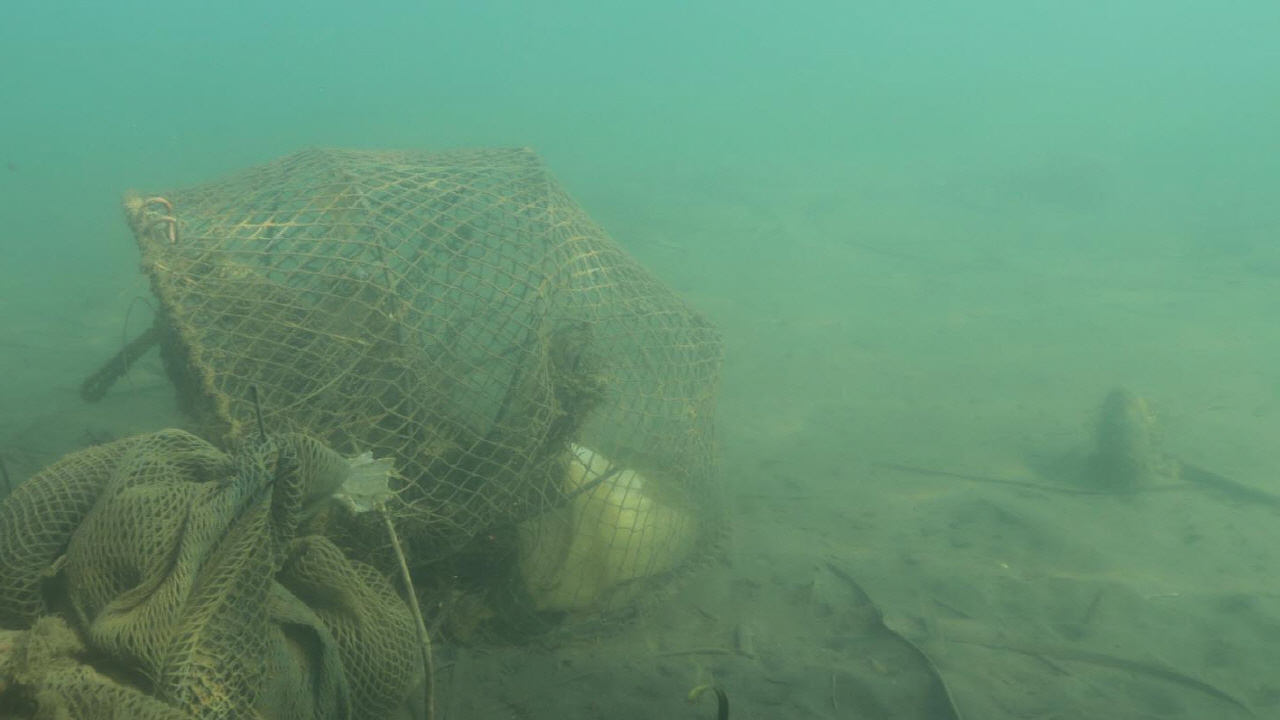fish net: (0, 423, 426, 720)
spring fish trap: (114, 143, 729, 654)
